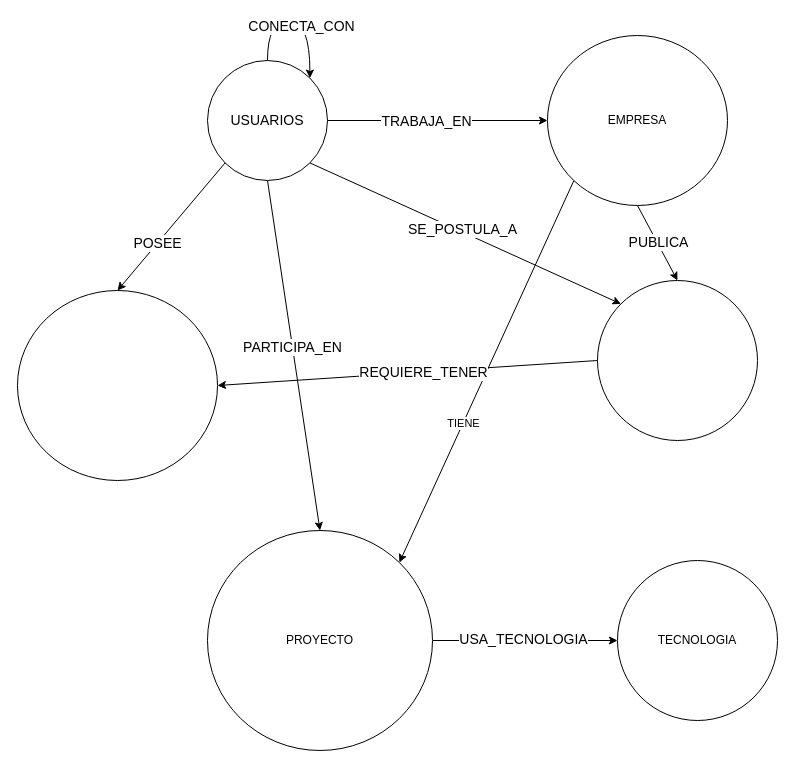
The diagram is 795 pixels wide and 768 high, and some of its shapes have lost their labels. The shapes that lost their labels are listed below. From the top down, each one's box as (x1, y1, x2, y2) in pixels, then its label:
(596, 280, 758, 440): OFERTA LABORAL
(16, 290, 218, 480): HABILIDAD
